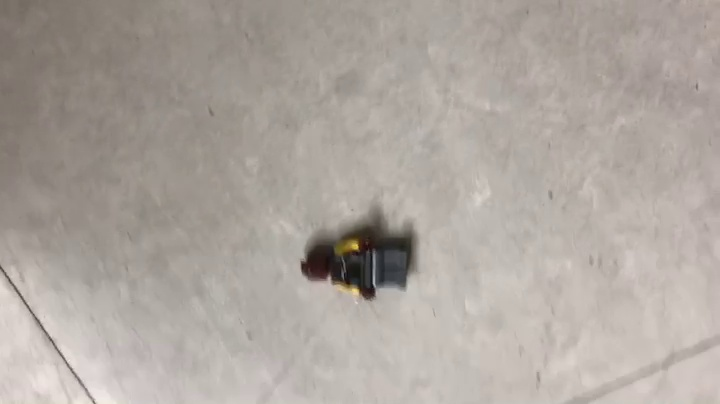people: (299, 225, 417, 302)
